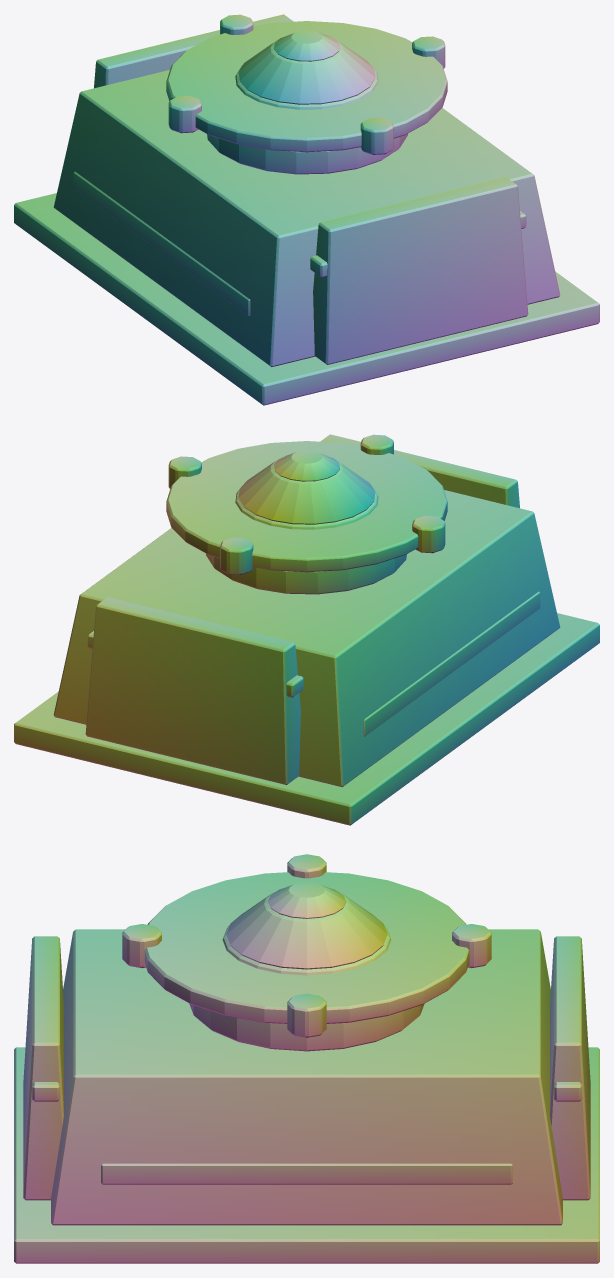
File: module_shield_rig.glb
3 views of the same model, one above another, from view 1: azimuth 30°, elevation 25°; view 2: azimuth 150°, elevation 25°; view 3: azimuth 270°, elevation 25° (orthographic). The views are drawn at different scales.
Visible parts, largest first — view 1: body, spin_ring; view 2: body, spin_ring; view 3: body, spin_ring.
Part boxes in pixels (x1,y1,x2,y2): body: (14, 14, 599, 405); spin_ring: (166, 14, 447, 154); body: (14, 434, 599, 825); spin_ring: (166, 434, 447, 574); body: (14, 882, 599, 1263); spin_ring: (122, 854, 491, 1037).
Size of the model in its own units: 10 by 6.7 by 12.8.
